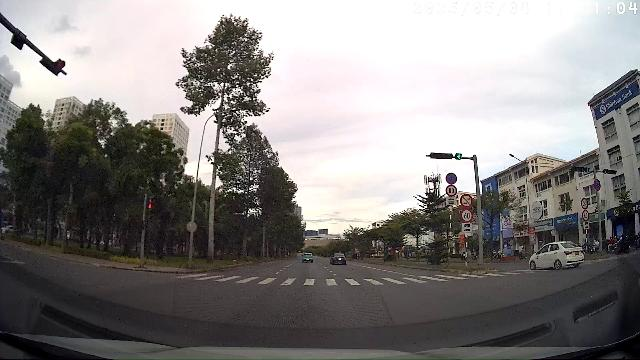127-toc-do-toi-da-60: (460, 208, 473, 222), (582, 210, 589, 220), (588, 219, 589, 220)
127-toc-do-toi-da-80: (445, 185, 457, 197)
130-cam-dung-va-do-xe: (446, 172, 458, 184), (593, 178, 601, 191)
